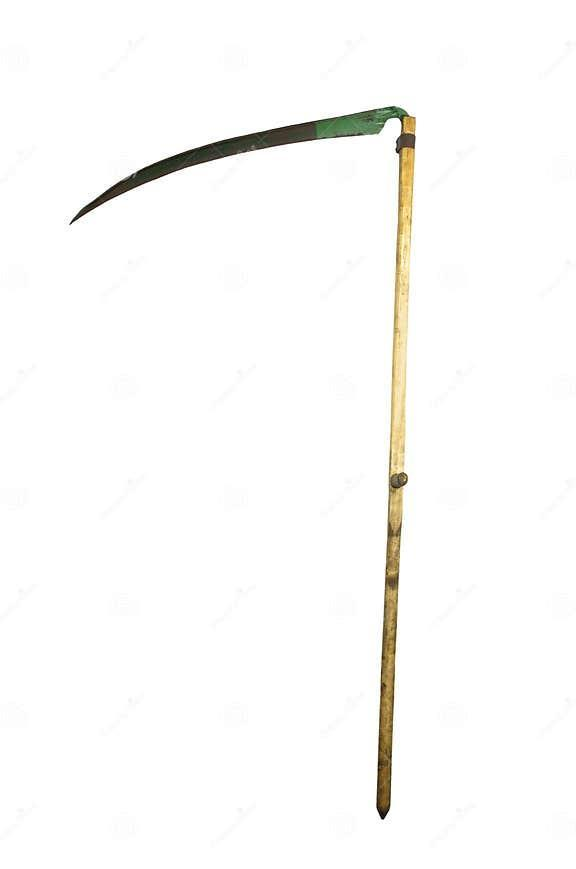foice: (70, 106, 414, 815)
